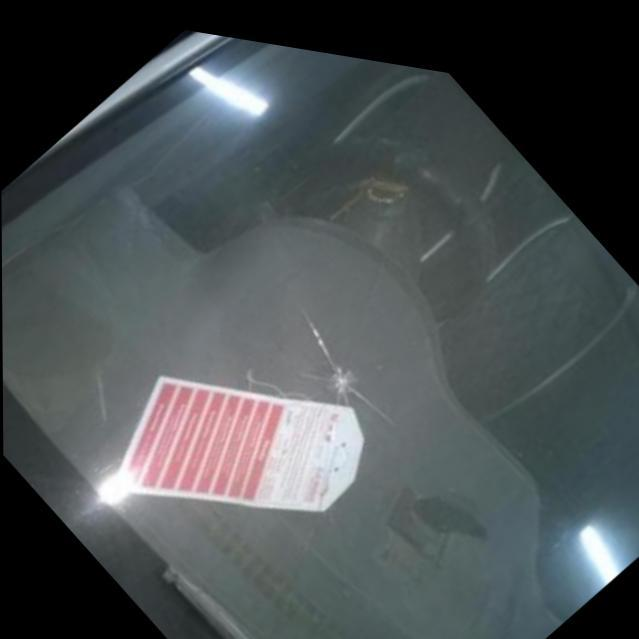glass shatter: (298, 329, 397, 428)
